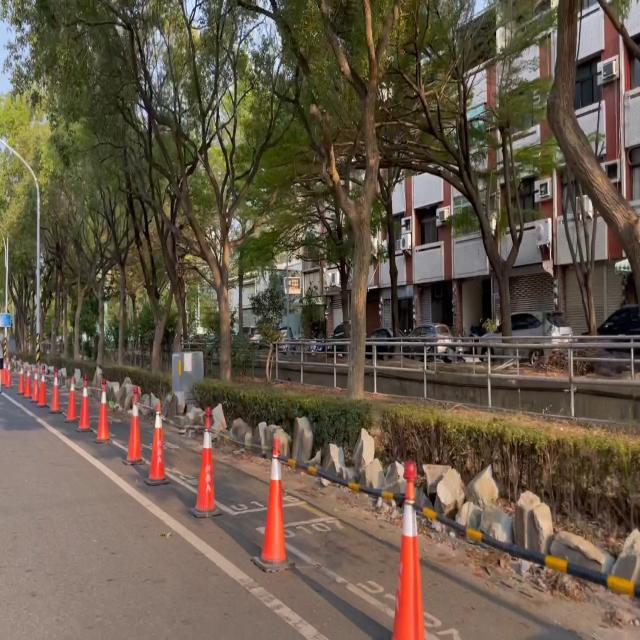car: (477, 311, 578, 368), (591, 303, 640, 373), (324, 321, 395, 361), (402, 323, 461, 363)
traffic cone: (328, 460, 471, 640), (360, 461, 456, 640), (377, 460, 437, 640), (249, 434, 296, 574), (189, 425, 223, 519), (143, 405, 171, 487), (121, 402, 148, 467), (94, 381, 112, 445), (75, 384, 93, 433), (63, 381, 78, 423)
